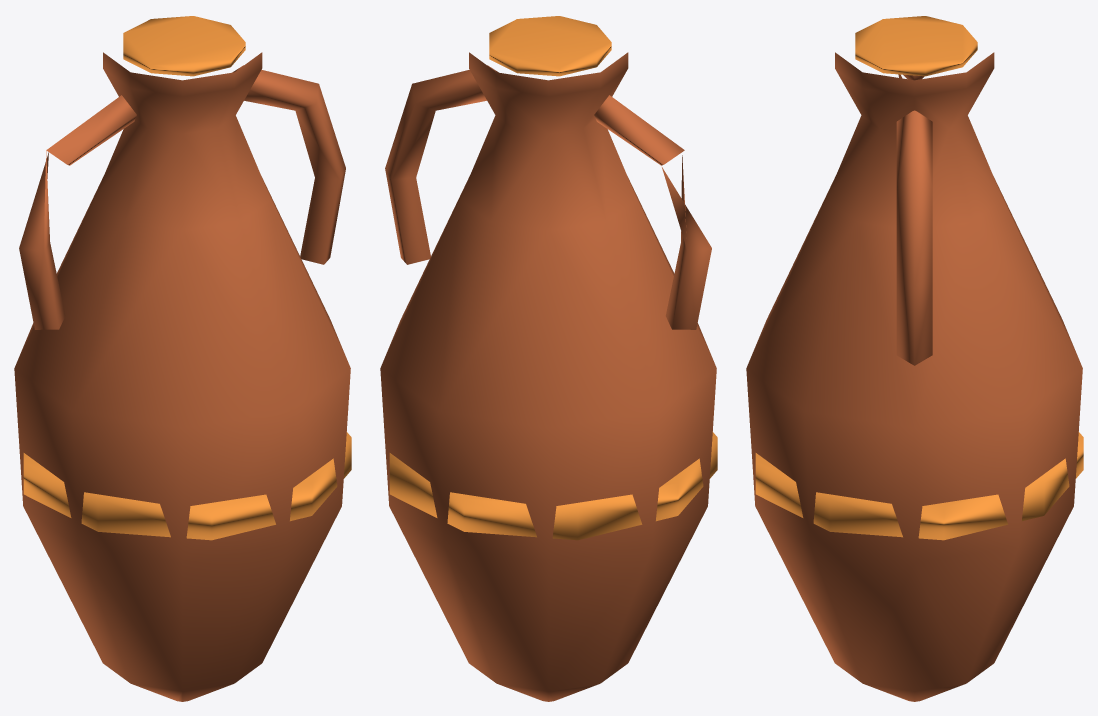
The model's file is amphora.glb.
3 renders of one model, left to right at view 1: azimuth 30°, elevation 25°; view 2: azimuth 150°, elevation 25°; view 3: azimuth 270°, elevation 25°, orthographic.
Parts seen in each view (by area): view 1: amphora; view 2: amphora; view 3: amphora.
Part boxes in pixels (box(x1,y1,x2,y2)): amphora: box(14, 16, 351, 701); amphora: box(380, 16, 717, 701); amphora: box(746, 16, 1083, 701).
Bounding box in the file's own units: 1.05 × 2.01 × 0.9378.
